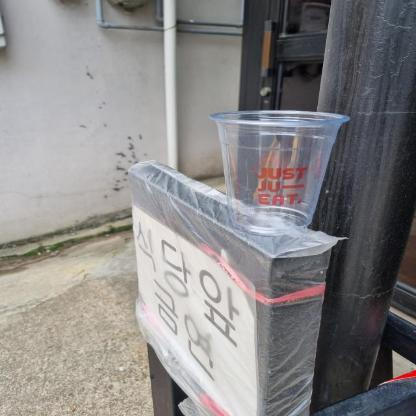Plastic Cup: (209, 112, 349, 230)
